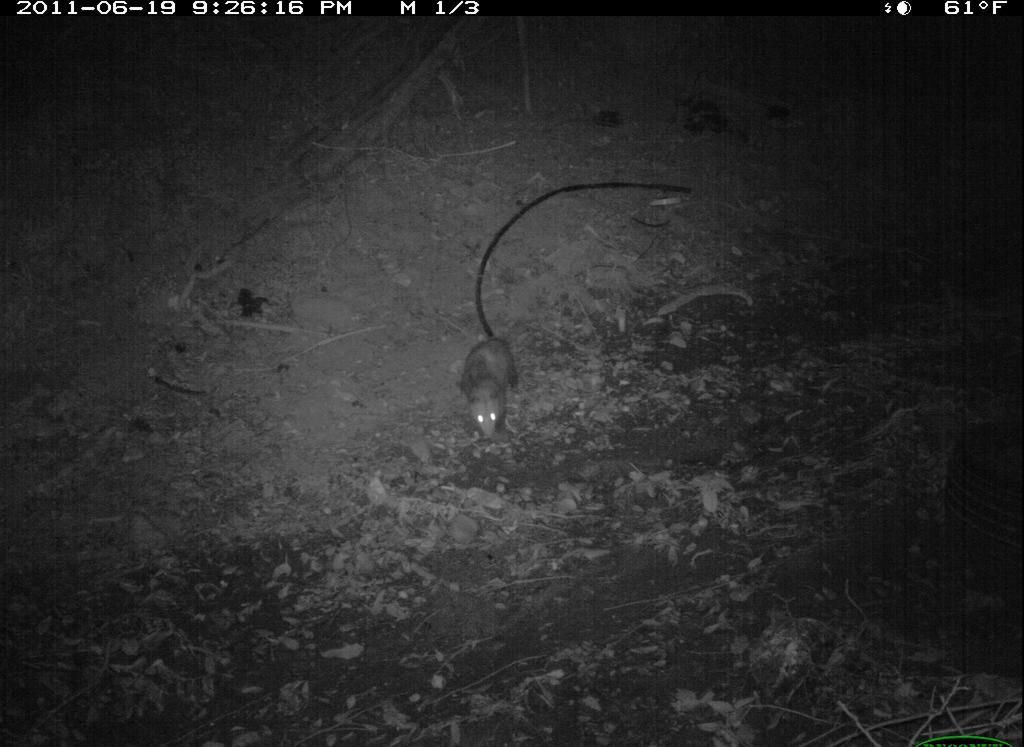opossum: (450, 329, 538, 441)
